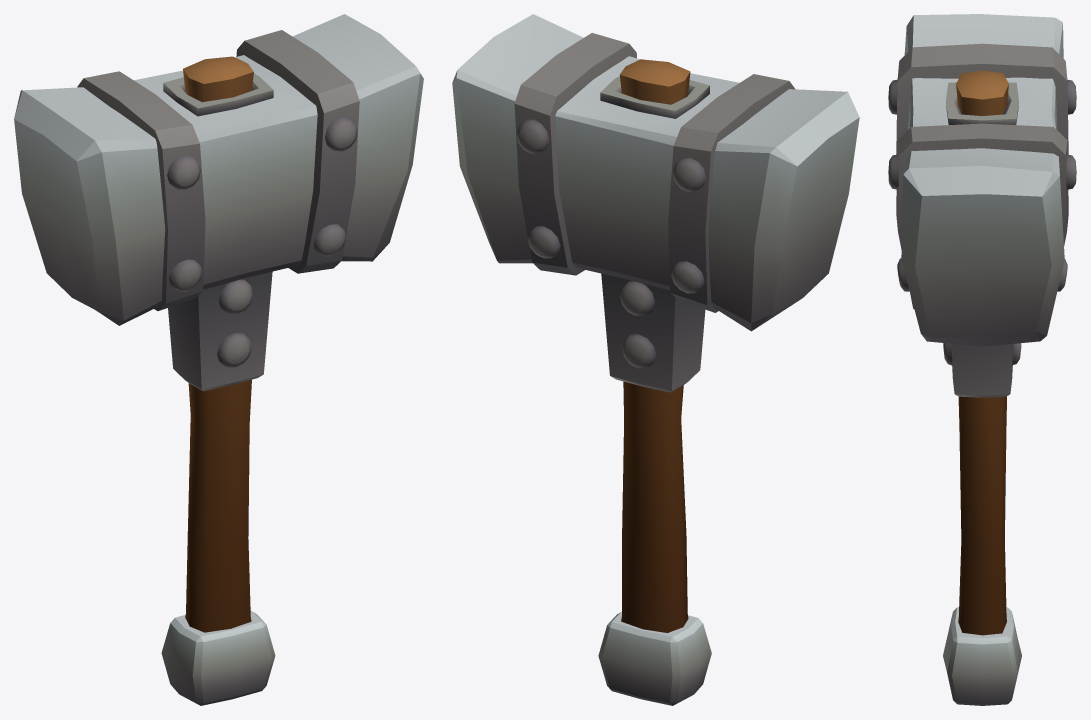
Rendered from Hammer_06.obj.
The picture shows the model from 3 angles, left to right: view 1: azimuth 30°, elevation 25°; view 2: azimuth 150°, elevation 25°; view 3: azimuth 270°, elevation 25°; orthographic projection. The views are drawn at different scales.
Visible parts, largest first — view 1: Hammer_06; view 2: Hammer_06; view 3: Hammer_06.
Part boxes in pixels (x1,y1,x2,y2): Hammer_06: (14,14,423,705); Hammer_06: (452,14,859,705); Hammer_06: (888,14,1076,705).
Size of the model in its own units: 0.6369 by 1.08 by 0.301.
